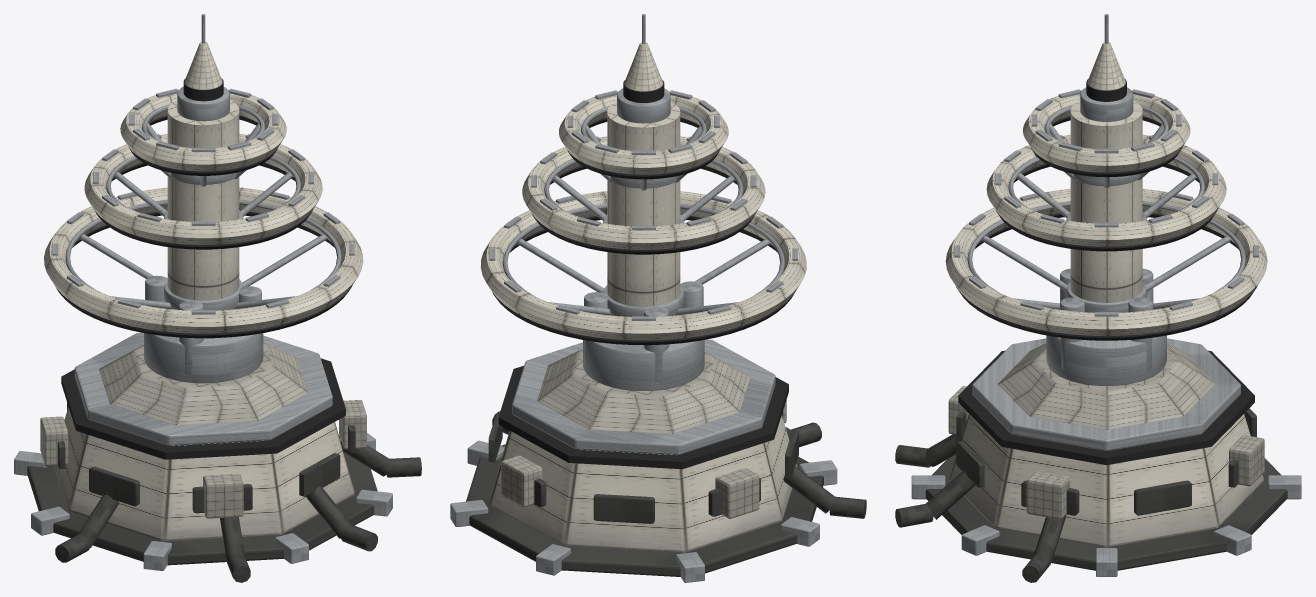
Rendered from shield.glb.
3 renders of one model, left to right at view 1: azimuth 30°, elevation 25°; view 2: azimuth 150°, elevation 25°; view 3: azimuth 270°, elevation 25°, orthographic. The views are drawn at different scales.
Visible parts, largest first — view 1: Cylinder; view 2: Cylinder; view 3: Cylinder.
Boxes of the visible parts, left/top/right/bottom form: Cylinder: left=14, top=14, right=421, bottom=582; Cylinder: left=450, top=14, right=866, bottom=582; Cylinder: left=895, top=14, right=1301, bottom=582.
Bounding box in the file's own units: 8.78 × 11.01 × 8.44.
6 materials, 5 textured.
